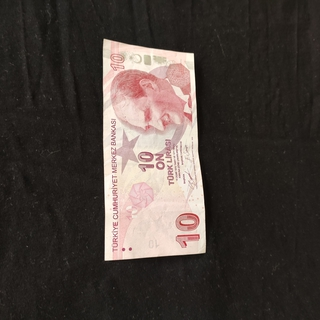10TLFront: (101, 37, 207, 261)
